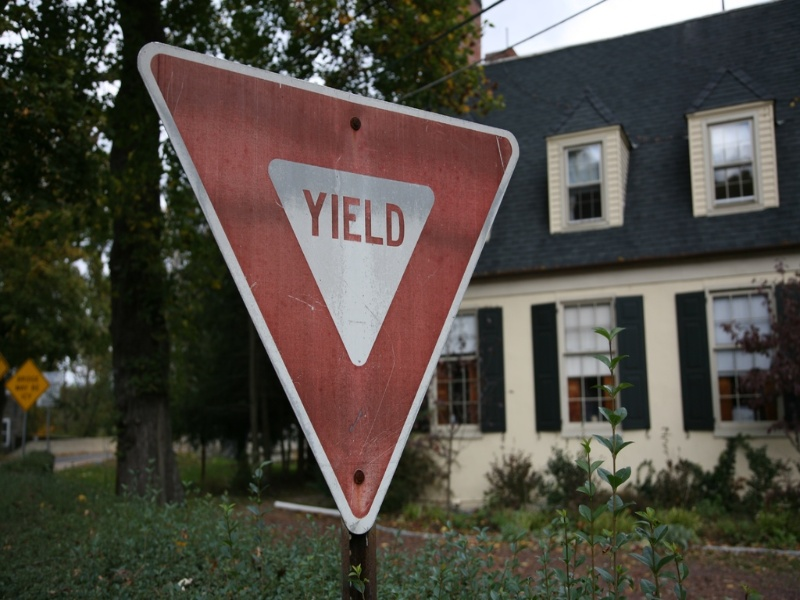warning: (128, 35, 521, 539)
